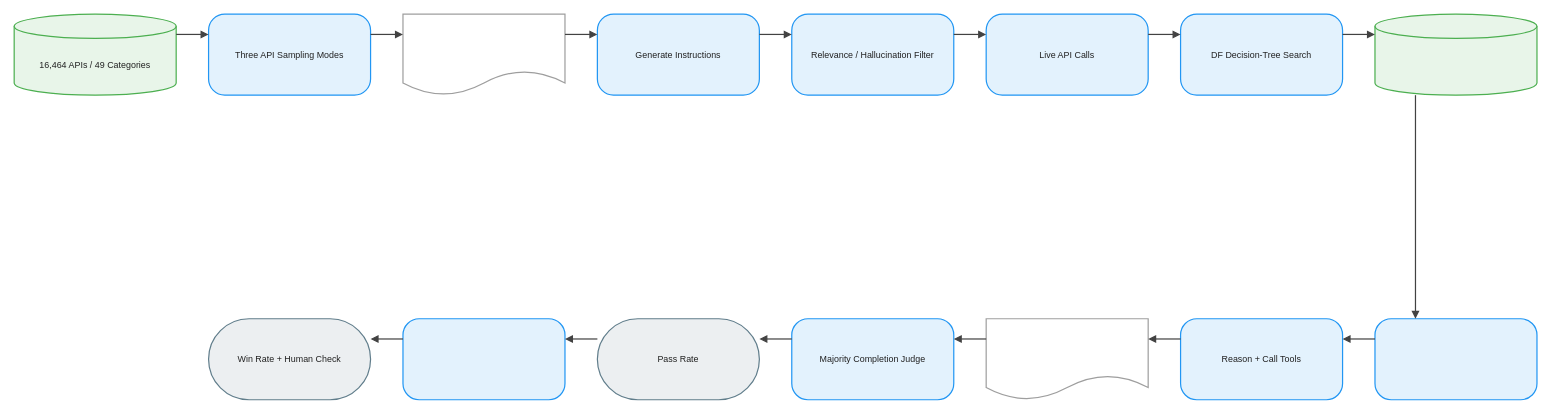
This 1552x415 diagram has some shape labels left out. The shapes that lost their labels are listed below. From the top down, each one's centre as x and y in pixels, then its label:
pixel 483 54: Docs + Human Seeds
pixel 1455 54: Executable Traces
pixel 483 359: Pairwise Comparison
pixel 1066 359: Answer + Trace
pixel 1455 359: Neural API Retriever
